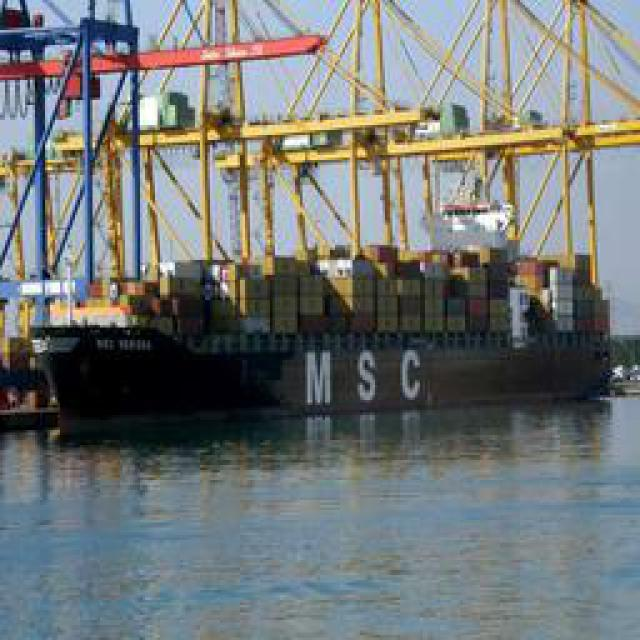Ship: (15, 29, 635, 409)
